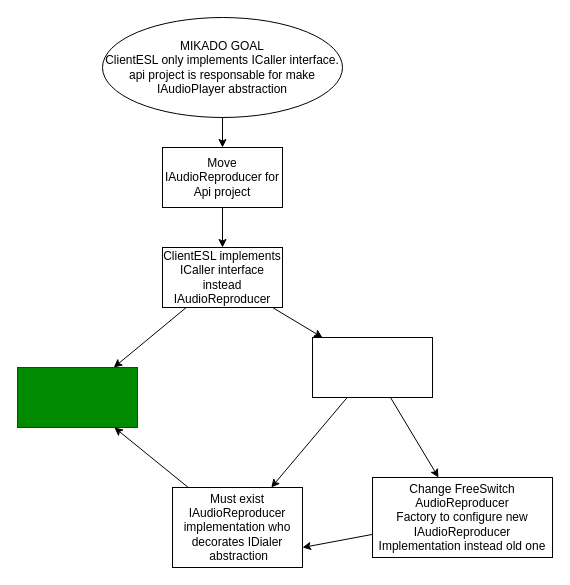
Some shapes in this 570 by 585 pixel diagram are drawn without their labels. Here are the shapes that lost their labels. From the top down, the centre of each, then its label:
At point 372,367: "change invokes for new implementation of IAudioReproducer".
At point 77,397: "Must exist IDialer interface in ESL project".
